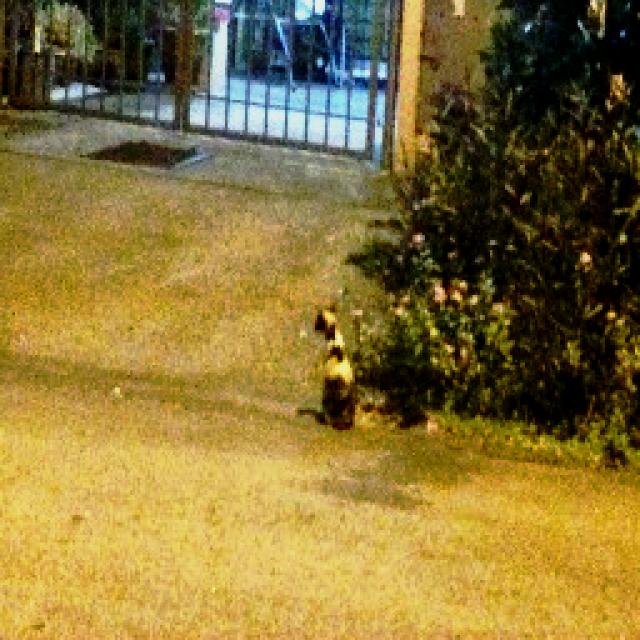cat: (296, 299, 360, 434)
